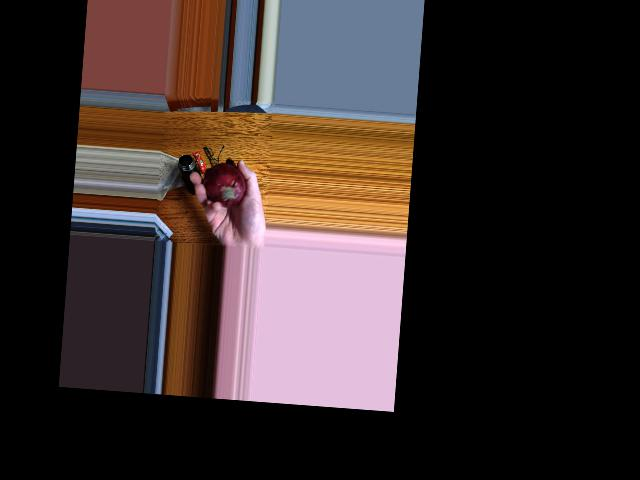onion: (208, 164, 248, 213)
